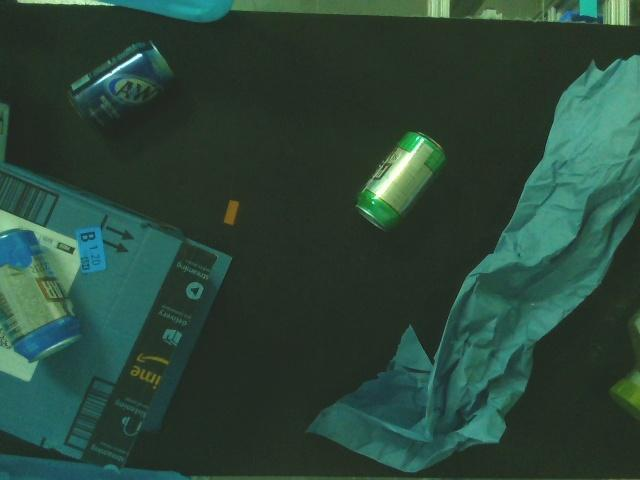cardboard: (1, 161, 237, 473), (608, 308, 639, 430)
metal: (0, 225, 86, 366), (65, 35, 176, 138), (354, 128, 448, 234)
paper: (303, 53, 640, 474)
plastic: (221, 197, 241, 227)
